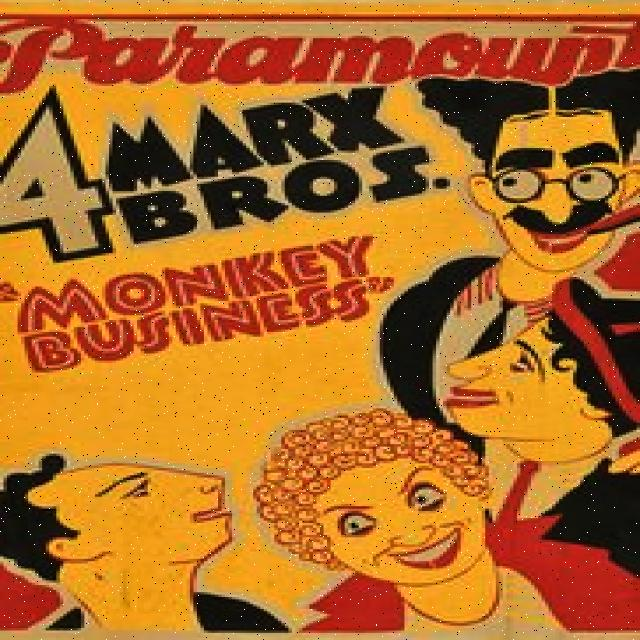movie-judul: (0, 82, 408, 354)
picture: (0, 415, 640, 640), (415, 78, 640, 434)
